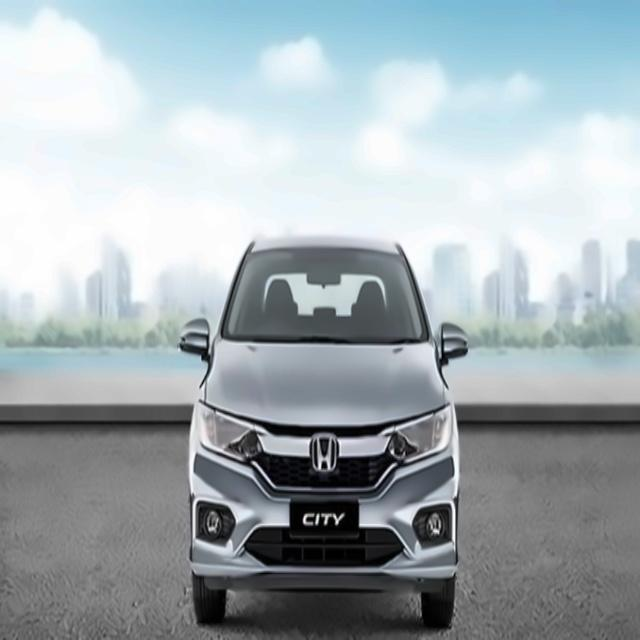Car hood: (195, 337, 450, 433)
Front bumper: (182, 444, 463, 591)
Headlight - -L-: (379, 402, 457, 464)
Headlight - -R-: (190, 397, 267, 465)
Side mirror - -L-: (434, 321, 470, 368)
Side mirror - -R-: (173, 317, 214, 368)
